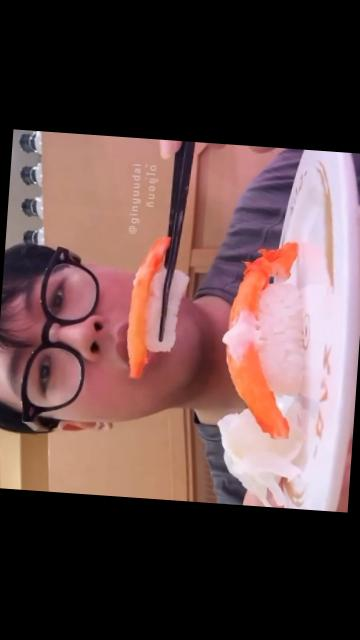janwhite: (296, 149, 360, 512)
